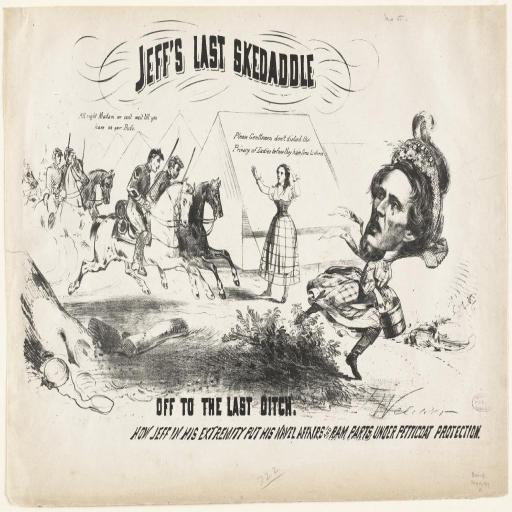horse: (22, 152, 242, 300)
